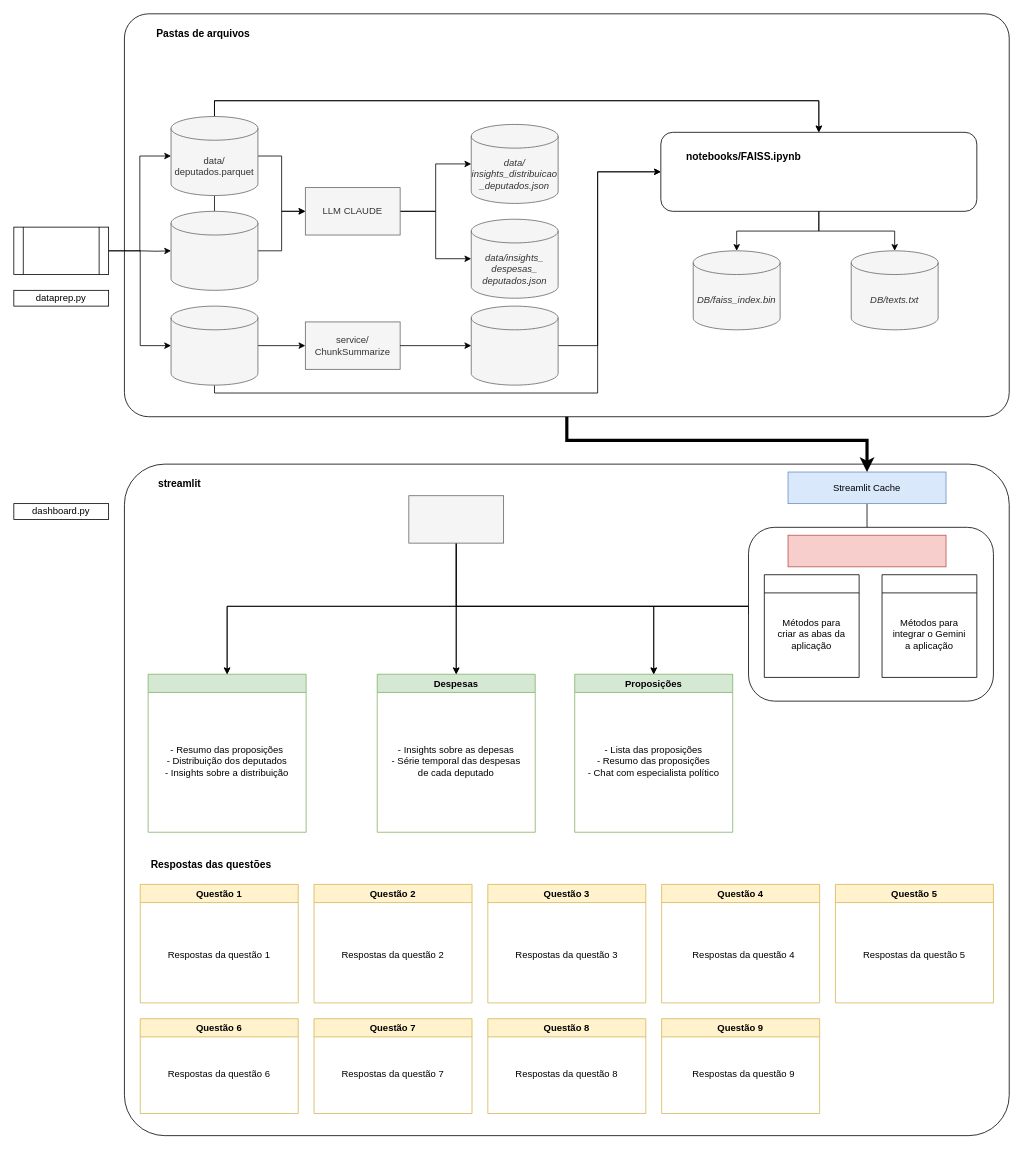
The diagram is 1023 pixels wide and 1149 high, and some of its shapes have lost their labels. Here are the shapes that lost their labels. From the top down, the box of each, then its label:
(660, 132, 977, 211): Criar uma base vetorial FAISS apartir dos dados coletados previamente
(13, 226, 109, 275): Coleta de dados via API Rest
(170, 211, 258, 290): data/ serie_despesas_ diarias_deputados. parquet
(170, 305, 258, 385): data/ proposicoes_ deputados. parquet
(470, 305, 558, 385): data/ sumarizacao_ proposicoes.json
(408, 495, 504, 543): LLM GEMINI FLASH
(787, 534, 946, 567): Services
(764, 574, 859, 677): APP_Pages
(881, 574, 977, 677): GeminiMethods
(147, 673, 306, 832): Overview
